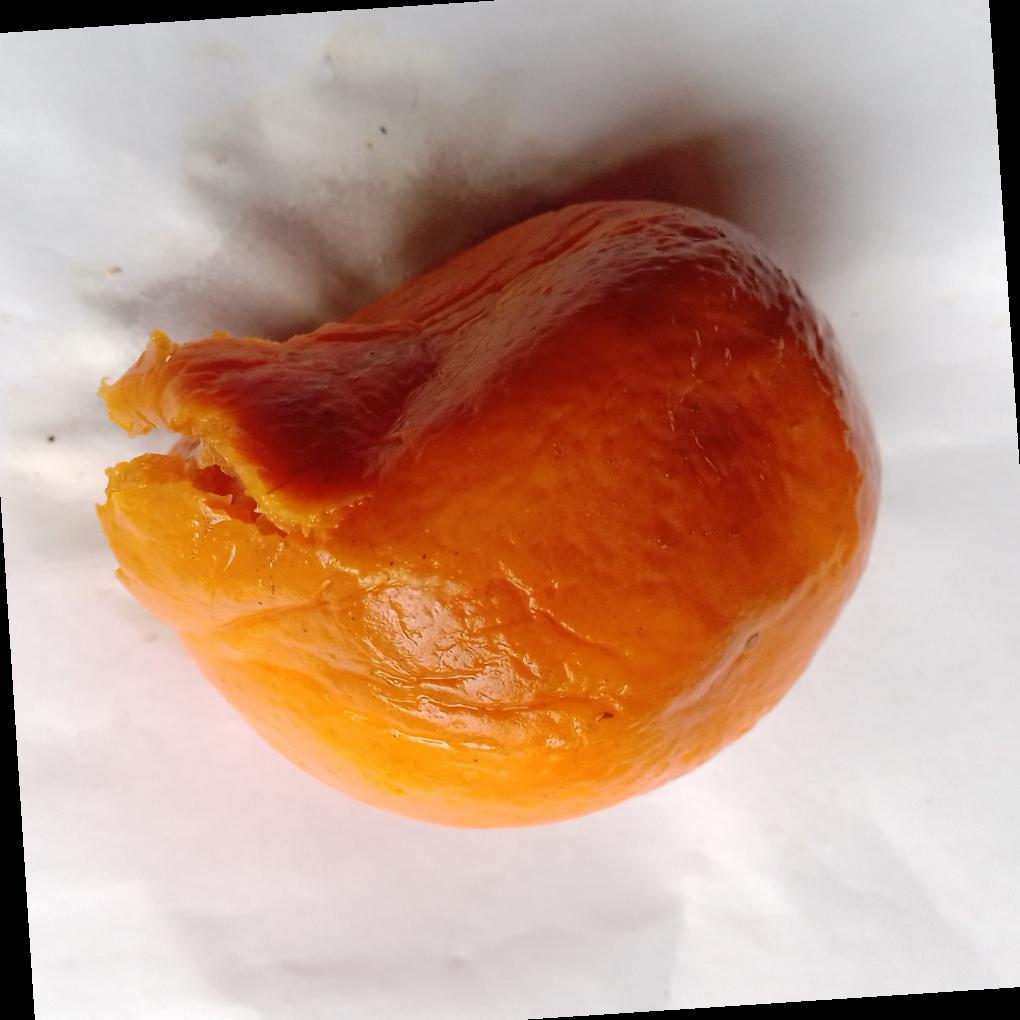FreshOrange: (94, 199, 882, 834)
